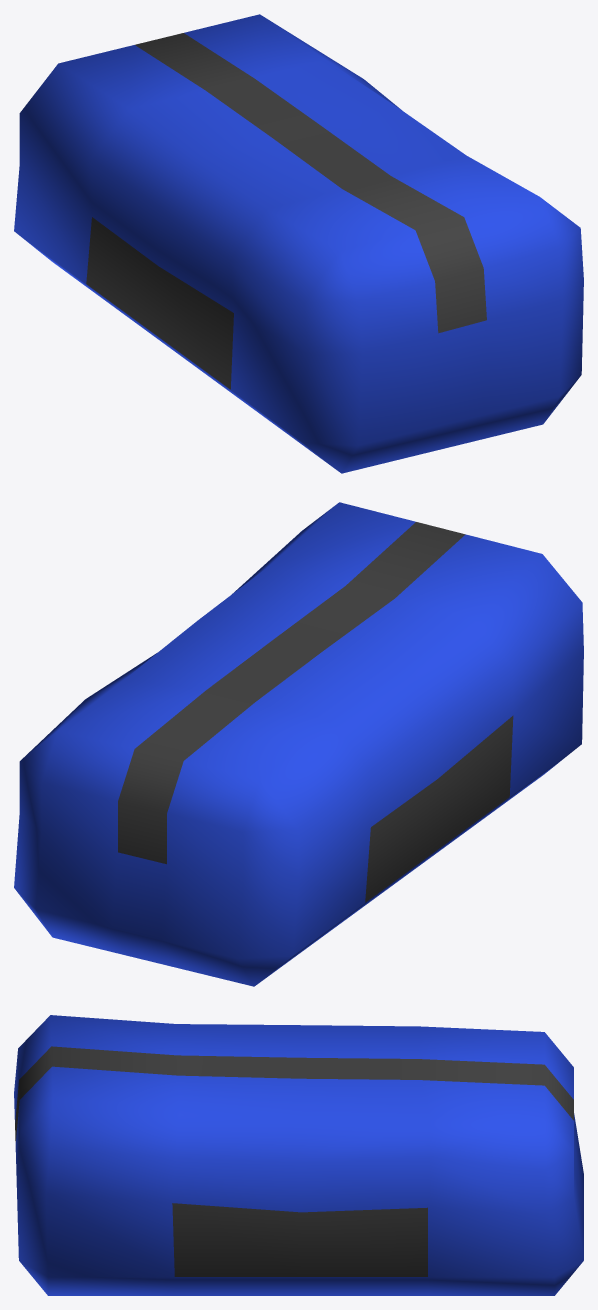
File: Bag.fbx
3 views of the same model, one above another, from view 1: azimuth 30°, elevation 25°; view 2: azimuth 150°, elevation 25°; view 3: azimuth 270°, elevation 25° (orthographic). The views are drawn at different scales.
Visible parts, largest first — view 1: Bag; view 2: Bag; view 3: Bag.
Part boxes in pixels (x1,y1,x2,y2): Bag: [14, 14, 583, 473]; Bag: [14, 502, 583, 986]; Bag: [14, 1015, 583, 1295].
Size of the model in its own units: 42.15 by 32.36 by 84.52.
